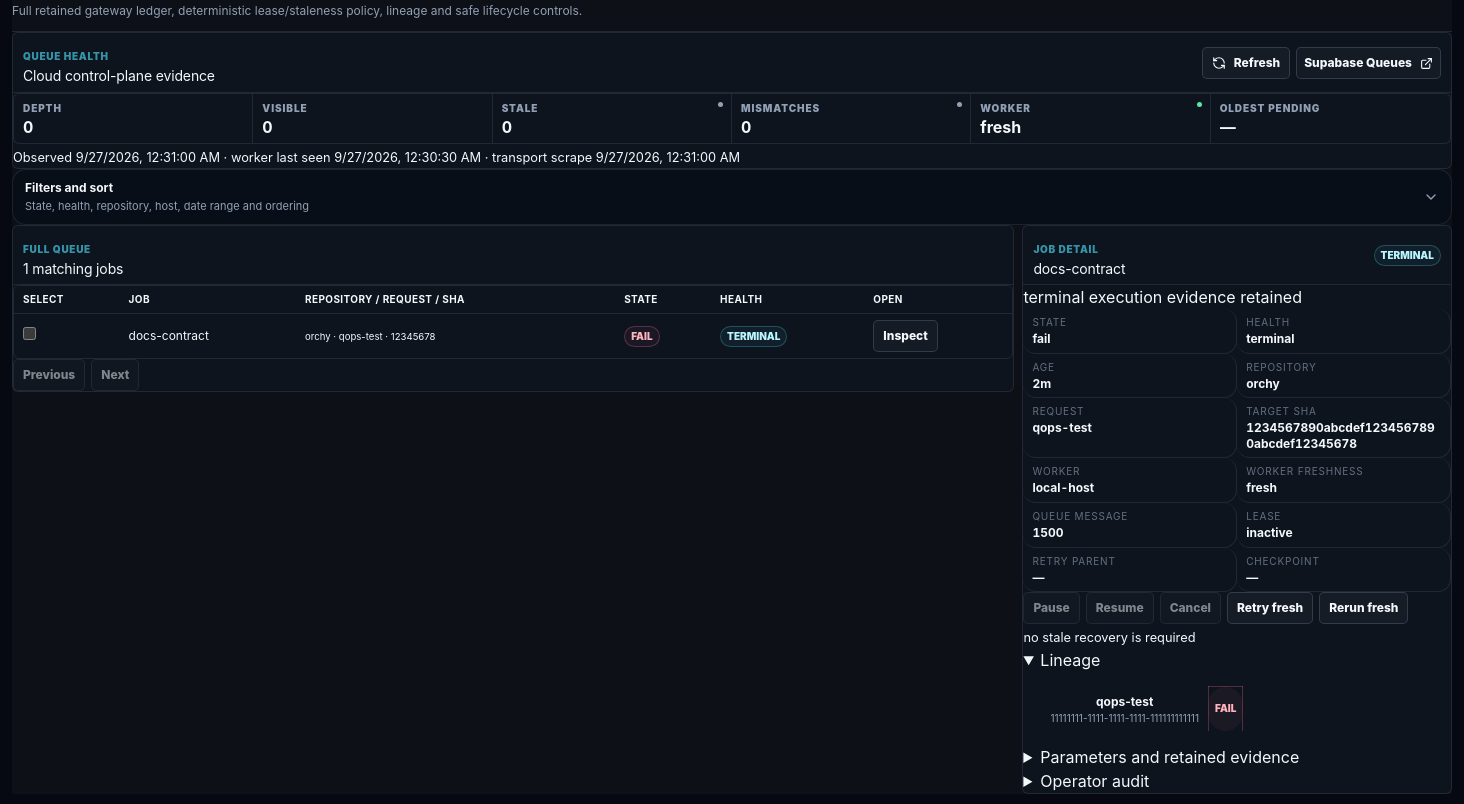
Test: QueuePage › covers audit from/to fallback values
(page scrolled)
Expected: the text "docs-contract" is shown, [120,314,296,358]
Click the heading "Operator audit". click: {"x": 1095, "y": 781}
box: [1040,771,1149,791]
(page scrolled)
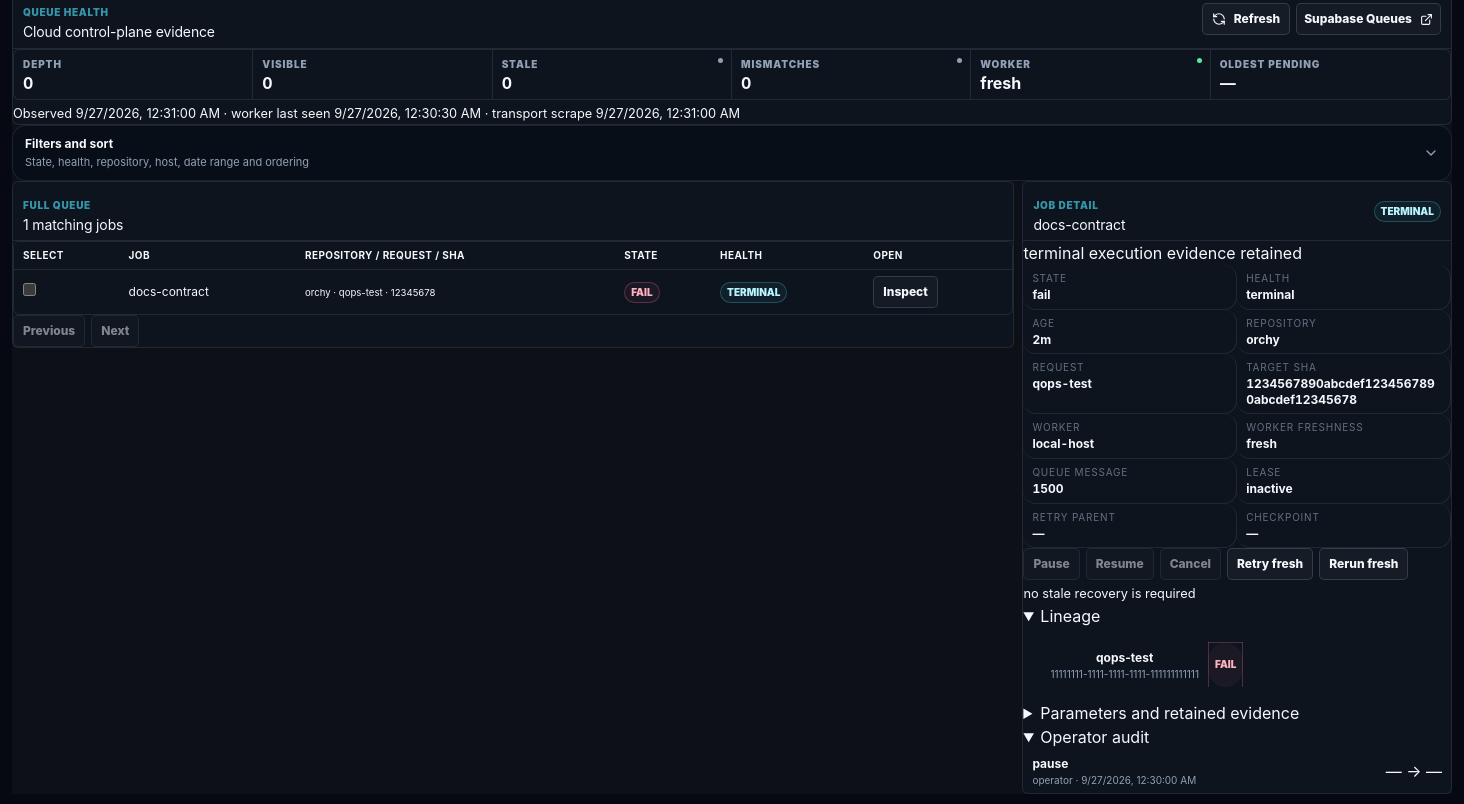
Result: the text "— → —" is shown at [1386,761,1442,781]
